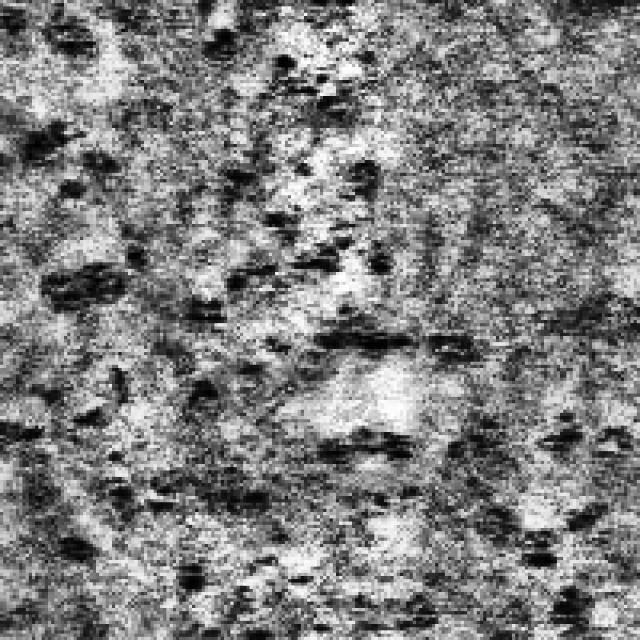Crazing: (179, 140, 432, 522), (0, 112, 170, 570), (307, 407, 624, 628)
